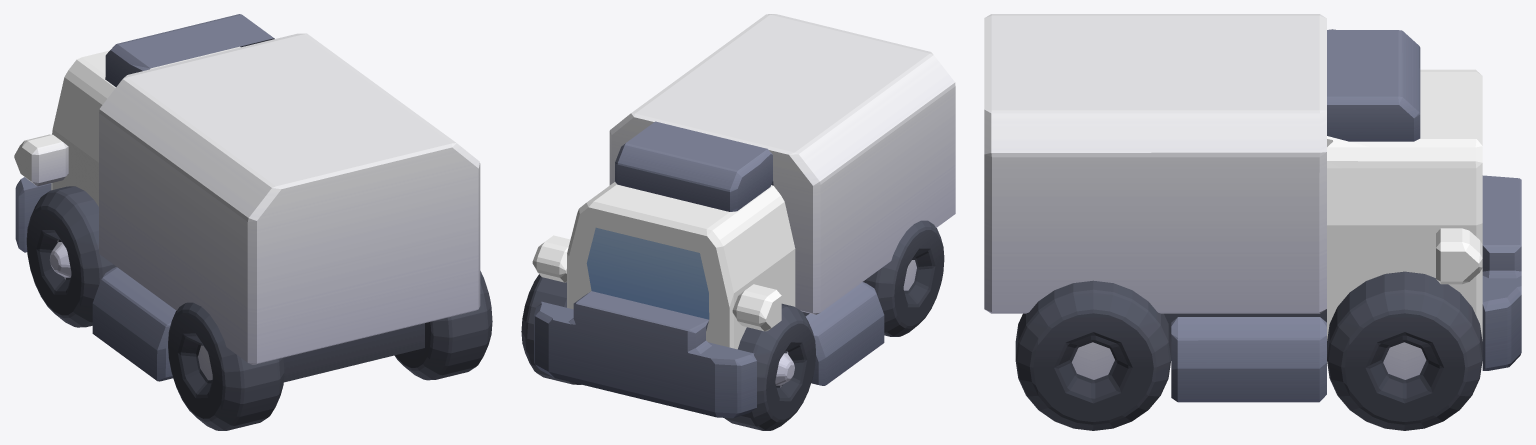
File: KitTruck.fbx
3 views of the same model, side by side, from view 1: azimuth 30°, elevation 25°; view 2: azimuth 150°, elevation 25°; view 3: azimuth 270°, elevation 25° (orthographic). The views are drawn at different scales.
Visible parts, largest first — view 1: KitTruck_Body, Wheel_RL, Wheel_FL, Wheel_RR; view 2: KitTruck_Body, Wheel_FL, Wheel_RL, Wheel_FR; view 3: KitTruck_Body, Wheel_FR, Wheel_RR.
Boxes of the visible parts, box(x1,y1,x2,y2) form: KitTruck_Body: box(14, 14, 480, 382); Wheel_RL: box(168, 302, 284, 430); Wheel_FL: box(26, 186, 116, 327); Wheel_RR: box(394, 271, 492, 380); KitTruck_Body: box(532, 14, 955, 418); Wheel_FL: box(724, 303, 815, 430); Wheel_RL: box(863, 220, 944, 336); Wheel_FR: box(521, 274, 581, 384); KitTruck_Body: box(984, 14, 1521, 402); Wheel_FR: box(1327, 271, 1482, 430); Wheel_RR: box(1015, 280, 1171, 430).
Size of the model in its own units: 1.96 by 1.83 by 3.
